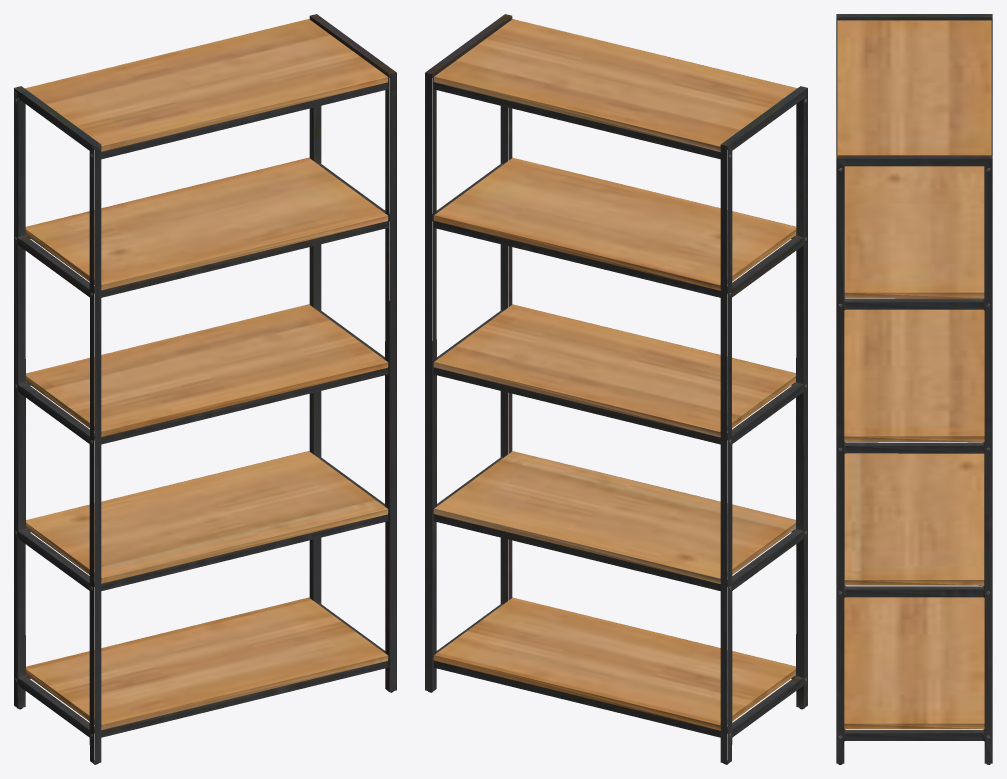
File: steel_frame_shelves_01.glb
3 renders of one model, left to right at view 1: azimuth 30°, elevation 25°; view 2: azimuth 150°, elevation 25°; view 3: azimuth 270°, elevation 25°, orthographic. The views are drawn at different scales.
Visible parts, largest first — view 1: steel_frame_shelves_01; view 2: steel_frame_shelves_01; view 3: steel_frame_shelves_01.
Part boxes in pixels (x1,y1,x2,y2): steel_frame_shelves_01: (14,14,396,764); steel_frame_shelves_01: (425,14,807,764); steel_frame_shelves_01: (836,14,992,764).
Bounding box in the file's own units: 1.1 × 2.14 × 0.5006.
Materials: 1 (1 with a texture image).
